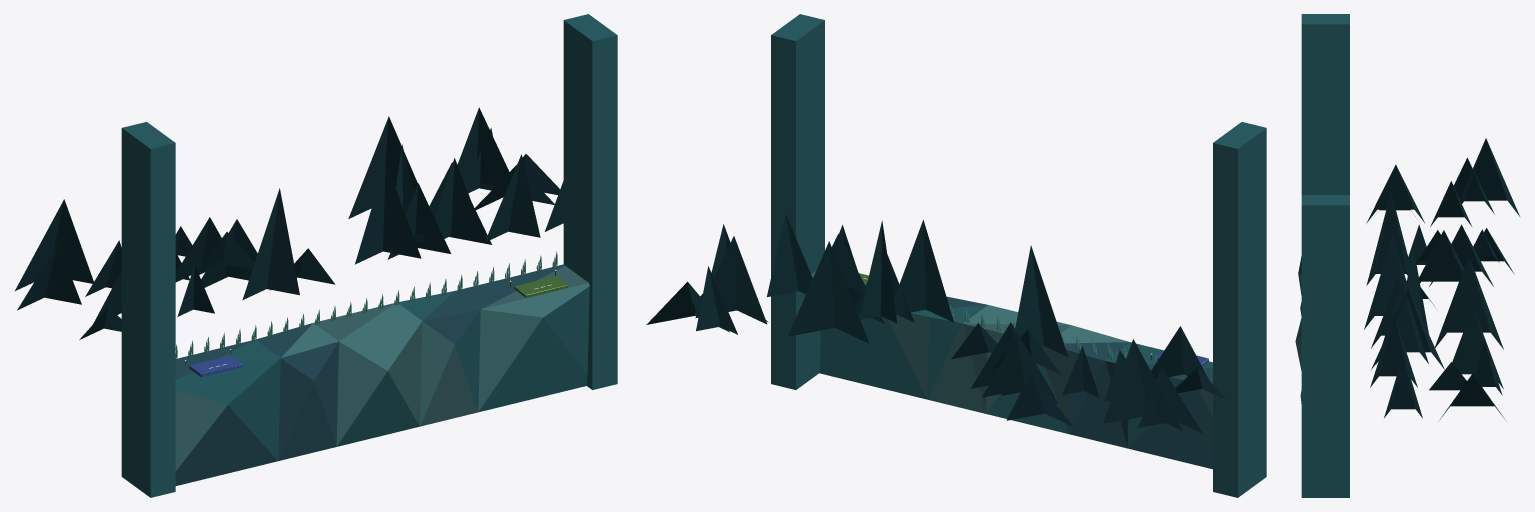
File: 07-water.glb
The picture shows the model from 3 angles, left to right: view 1: azimuth 30°, elevation 25°; view 2: azimuth 150°, elevation 25°; view 3: azimuth 270°, elevation 25°; orthographic projection. The views are drawn at different scales.
Visible parts, largest first — view 1: terrain_floor, terrain_wall_-1, terrain_wall_1, background_spire_12, background_spire_10, background_spire_03, background_spire_22, background_spire_04, background_spire_06, background_spire_20, background_spire_23, background_spire_01 (+10 smaller); view 2: terrain_floor, terrain_wall_-1, terrain_wall_1, background_spire_20, background_spire_12, background_spire_03, background_spire_10, background_spire_06, background_spire_04, background_spire_24, background_spire_07, background_spire_16 (+8 smaller); view 3: terrain_wall_1, terrain_wall_-1, background_spire_20, background_spire_03, background_spire_10, background_spire_06, background_spire_12, background_spire_09, background_spire_04, background_spire_22, background_spire_16, background_spire_08 (+14 smaller).
Boxes of the visible parts, x1,y1,x2,y2 form: terrain_floor: (175,264,589,485); terrain_wall_-1: (121,122,175,497); terrain_wall_1: (563,14,617,389); background_spire_12: (355,161,421,264); background_spire_10: (242,188,299,300); background_spire_03: (15,199,93,290); background_spire_22: (435,158,486,242); background_spire_04: (486,154,540,241); background_spire_06: (457,107,509,185); background_spire_20: (348,116,417,218); background_spire_23: (17,243,81,310); background_spire_01: (387,183,450,259); terrain_floor: (811,271,1212,469); terrain_wall_-1: (1213,122,1266,497); terrain_wall_1: (771,14,824,389); background_spire_20: (788,241,869,343); background_spire_12: (894,220,954,322); background_spire_03: (1103,339,1182,430); background_spire_10: (1015,245,1068,356); background_spire_06: (695,236,767,324); background_spire_04: (767,214,812,296); background_spire_24: (859,220,897,323); background_spire_07: (982,335,1058,404); background_spire_16: (1151,326,1209,380); terrain_wall_1: (1301,195,1349,497); terrain_wall_-1: (1301,14,1349,194); background_spire_20: (1435,255,1503,349); background_spire_03: (1460,138,1519,216); background_spire_10: (1366,192,1409,285); background_spire_06: (1442,306,1503,389); background_spire_12: (1364,235,1406,329); background_spire_09: (1419,230,1463,282); background_spire_04: (1370,314,1417,387); background_spire_22: (1376,282,1428,363); background_spire_16: (1366,164,1424,223); background_spire_08: (1384,354,1422,418).
Size of what is drawn, in the model's own units: 65.2 by 40 by 27.87.
